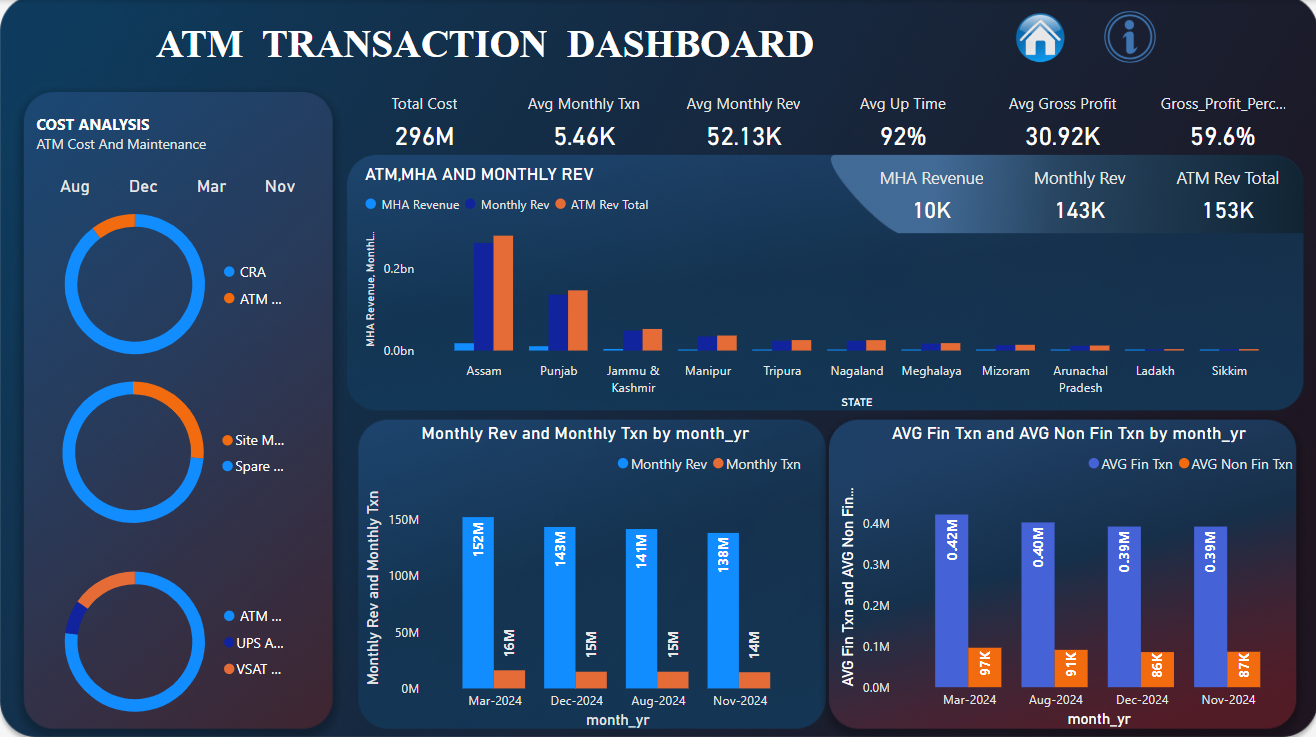

Layout of this report page (visuals, bound fields, positions):
{"tool":"powerbi","page":{"name":"Page 1","canvas":[1280,720],"ordinal":1},"visuals":[{"type":"clusteredColumnChart","title":"ATM,MHA  AND MONTHLY REV","fields":{"Y":["Sum(Sheet1.MHA Revenue)","Sum(Sheet1.Monthly Rev)","Sum(Sheet1.ATM Rev Total)"],"Category":["Sheet1.STATE"]},"box":[351.1,158,902.4,241.3],"z":0},{"type":"donutChart","fields":{"Y":["Sum(Sheet1.CRA)","Sum(Sheet1.ATM AMC)"]},"box":[45.1,181,252.1,187],"z":0,"group":"g1"},{"type":"donutChart","fields":{"Y":["Sum(Sheet1.Site Maint (Non Asset))","Sum(Sheet1.Spare Rep.(UPS))"]},"box":[42.2,334.2,254.6,205.1],"z":1000,"group":"g1"},{"type":"lineClusteredColumnComboChart","title":"AVG Fin Txn and AVG Non Fin Txn by month_yr","fields":{"Category":["Sheet1.month_yr"],"Y":["Sum(Sheet1.AVG Fin Txn)","Sum(Sheet1.AVG Non Fin Txn)"]},"box":[809.5,407.8,452,299.2],"z":1000},{"type":"clusteredColumnChart","fields":{"Y":["Sum(Sheet1.Monthly Rev)","Sum(Sheet1.Monthly Txn)"],"Category":["Sheet1.month_yr"]},"box":[351.1,407.8,435.5,300.4],"z":2000},{"type":"donutChart","fields":{"Y":["Sum(Sheet1.ATM AMC)","Sum(Sheet1.UPS AMC)","Sum(Sheet1.VSAT AMC)"]},"box":[44.5,518.8,252.1,201.5],"z":2000,"group":"g1"},{"type":"advancedSlicerVisual","fields":{"Values":["Sheet1.short_Month"]},"box":[42.2,150.8,266.6,55.5],"z":3000},{"type":"cardVisual","fields":{"Data":["Sum(Sheet1. Total Cost  )","Avg(Sheet1.Monthly Txn)","Avg(Sheet1.Monthly Rev)","Avg(Sheet1.Up Time)","Avg(Sheet1. Gross Profit )","Sheet1.Gross_Profit_Percentage"]},"box":[335.4,72.4,929,85.7],"z":4000},{"type":"cardVisual","fields":{"Data":["Max(Sheet1.MHA Revenue)","Max(Sheet1.Monthly Rev)","Max(Sheet1.ATM Rev Total)"]},"box":[828.8,143.6,435.5,74.8],"z":5000},{"type":"group","id":"g1","title":"Group 1","box":[42.2,181,254.6,539.3],"z":6000},{"type":"textbox","box":[33.8,105,252.1,53.1],"z":7000},{"type":"textbox","box":[44.5,15.3,854.3,57],"z":8000},{"type":"image","box":[951.5,0,112.8,72.3],"z":9000},{"type":"image","box":[1064.1,6,61.5,59.1],"z":11000}]}

Visuals, with their boxes in screenshot pixels (x1, y1, x2, y2), scaled from the page's 1280x720 canvas onto the 1316x737 screenshot:
"ATM,MHA  AND MONTHLY REV" clusteredColumnChart: locate(361, 162, 1289, 409)
donutChart - Sum(Sheet1.CRA) x Sum(Sheet1.ATM AMC): locate(46, 185, 306, 377)
donutChart - Sum(Sheet1.Site Maint (Non Asset)) x Sum(Sheet1.Spare Rep.(UPS)): locate(43, 342, 305, 552)
"AVG Fin Txn and AVG Non Fin Txn by month_yr" lineClusteredColumnComboChart: locate(832, 417, 1297, 724)
clusteredColumnChart - Sum(Sheet1.Monthly Rev) x Sum(Sheet1.Monthly Txn): locate(361, 417, 809, 725)
donutChart - Sum(Sheet1.ATM AMC) x Sum(Sheet1.UPS AMC): locate(46, 531, 305, 736)
advancedSlicerVisual - Sheet1.short_Month: locate(43, 154, 317, 211)
cardVisual - Sum(Sheet1. Total Cost  ) x Avg(Sheet1.Monthly Txn): locate(345, 74, 1300, 162)
cardVisual - Max(Sheet1.MHA Revenue) x Max(Sheet1.Monthly Rev): locate(852, 147, 1300, 224)
"Group 1" group: locate(43, 185, 305, 736)
textbox: locate(35, 107, 294, 162)
textbox: locate(46, 16, 924, 74)
image: locate(978, 0, 1094, 74)
image: locate(1094, 6, 1157, 67)
